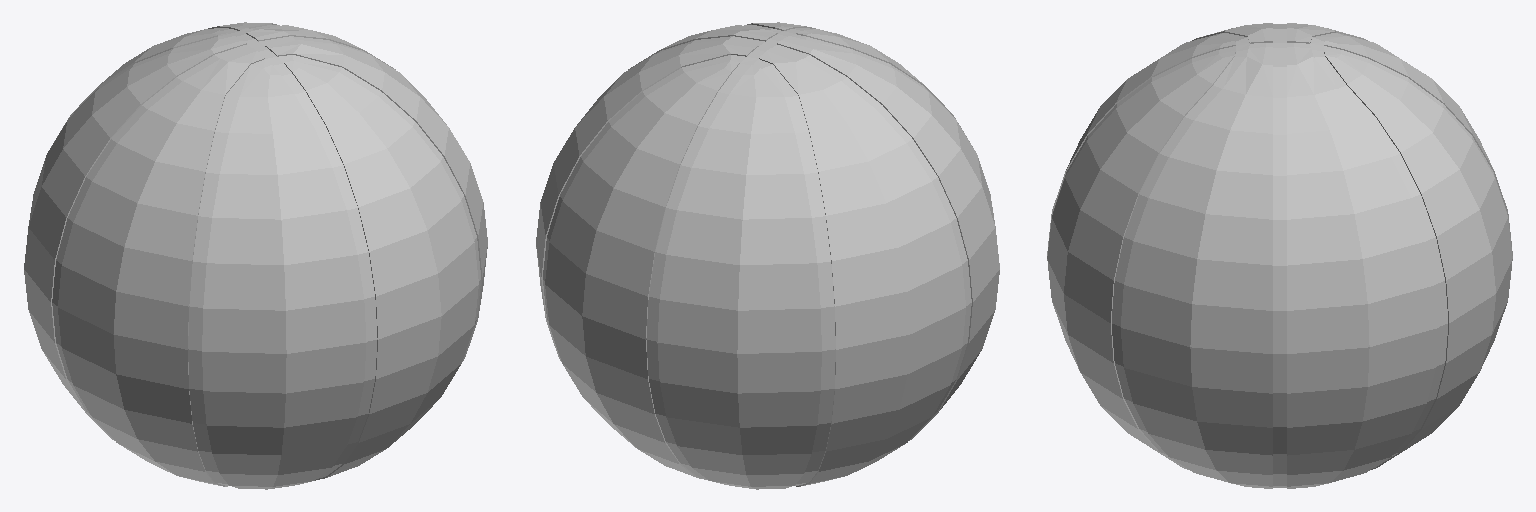
File: baseball.obj
3 views of the same model, side by side, from view 1: azimuth 30°, elevation 25°; view 2: azimuth 150°, elevation 25°; view 3: azimuth 270°, elevation 25° (orthographic).
Parts seen in each view (by area): view 1: BasketballBall; view 2: BasketballBall; view 3: BasketballBall.
Part boxes in pixels (x1,y1,x2,y2): BasketballBall: (24, 22, 487, 489); BasketballBall: (536, 22, 999, 489); BasketballBall: (1047, 23, 1512, 488).
Size of the model in its own units: 0.7949 by 0.7979 by 0.7949.